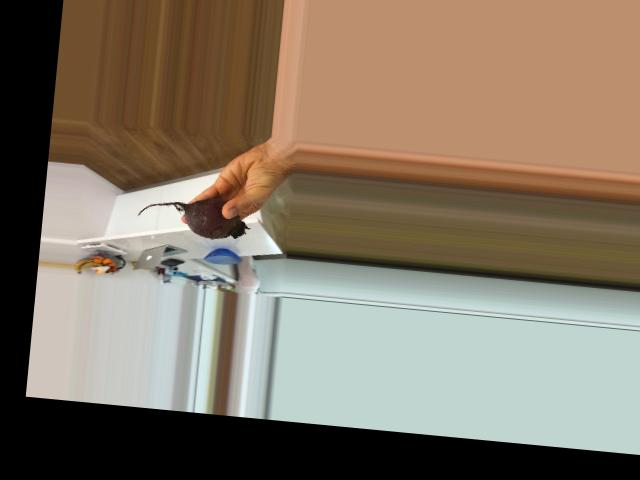beet: (135, 192, 250, 241)
